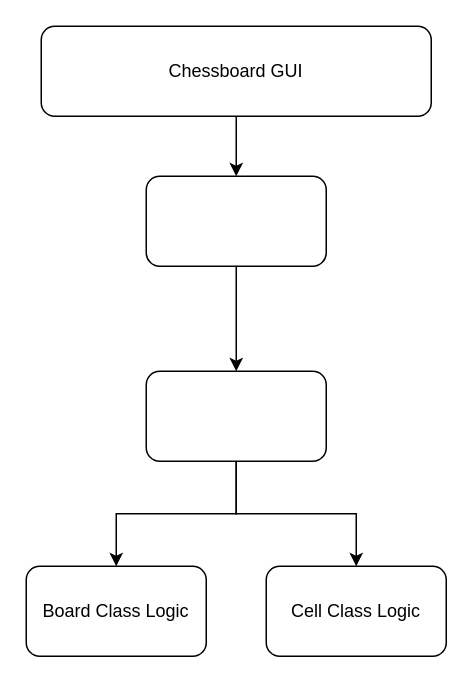
Image size: 473x683. Some labels were removed from this diagram. The centre of each missing label's shape, as x and y in pixels:
"Chessboard Model" goes at pixel 235 415.
"Form / Grid Logic" goes at pixel 235 220.
